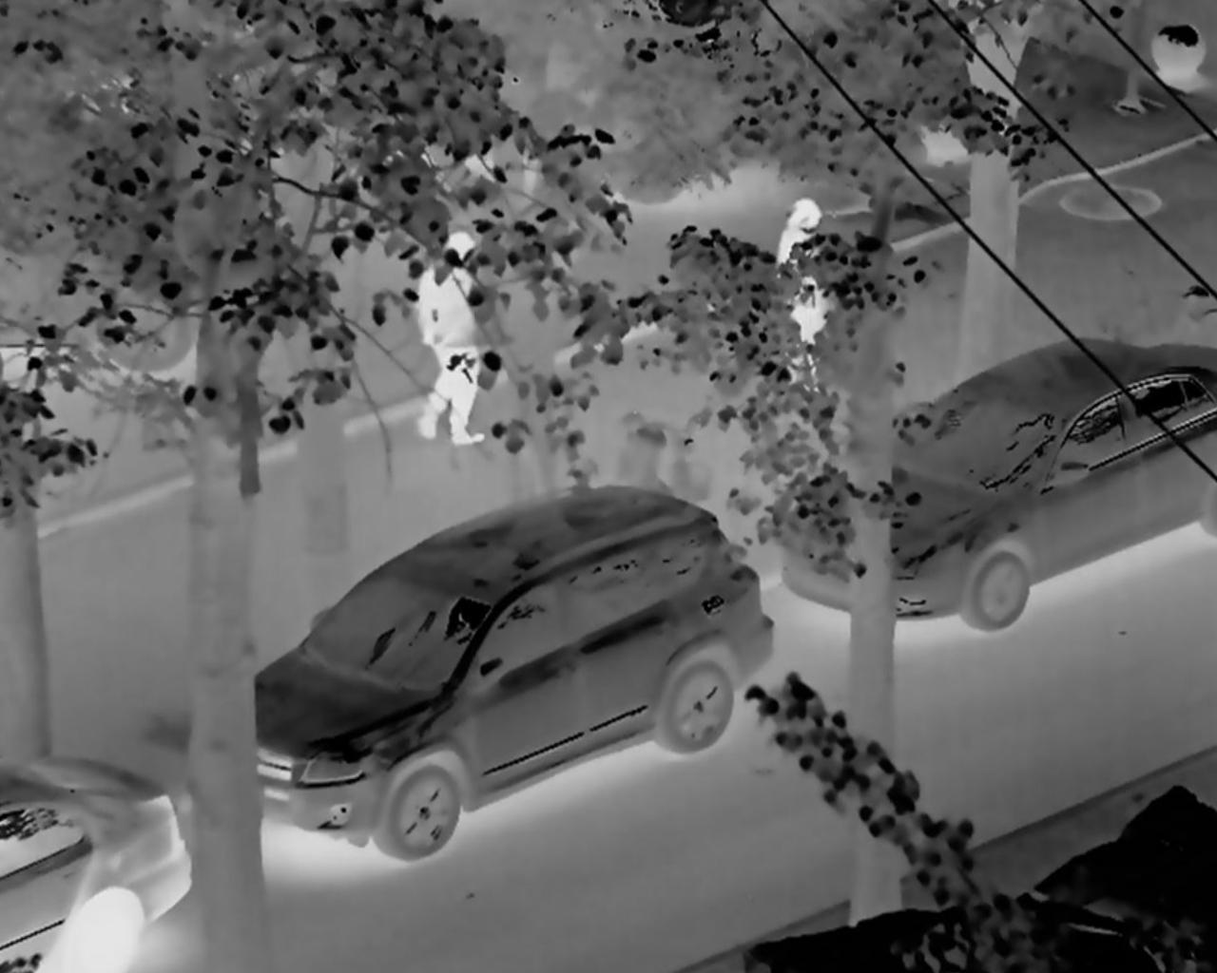person: (409, 220, 492, 454), (760, 188, 839, 362)
